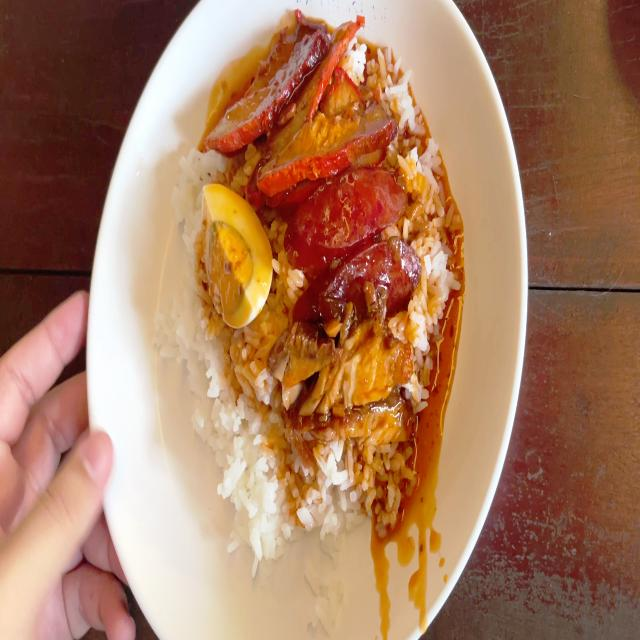boiled_egg: (206, 193, 269, 315)
chainese_sausage: (289, 173, 417, 320)
crispy_pork: (269, 330, 411, 444)
red_pork: (212, 15, 358, 159), (251, 86, 393, 187)
red_pork_and_crispy_pork: (164, 28, 454, 544)
rice: (183, 324, 272, 547), (271, 452, 399, 532)
